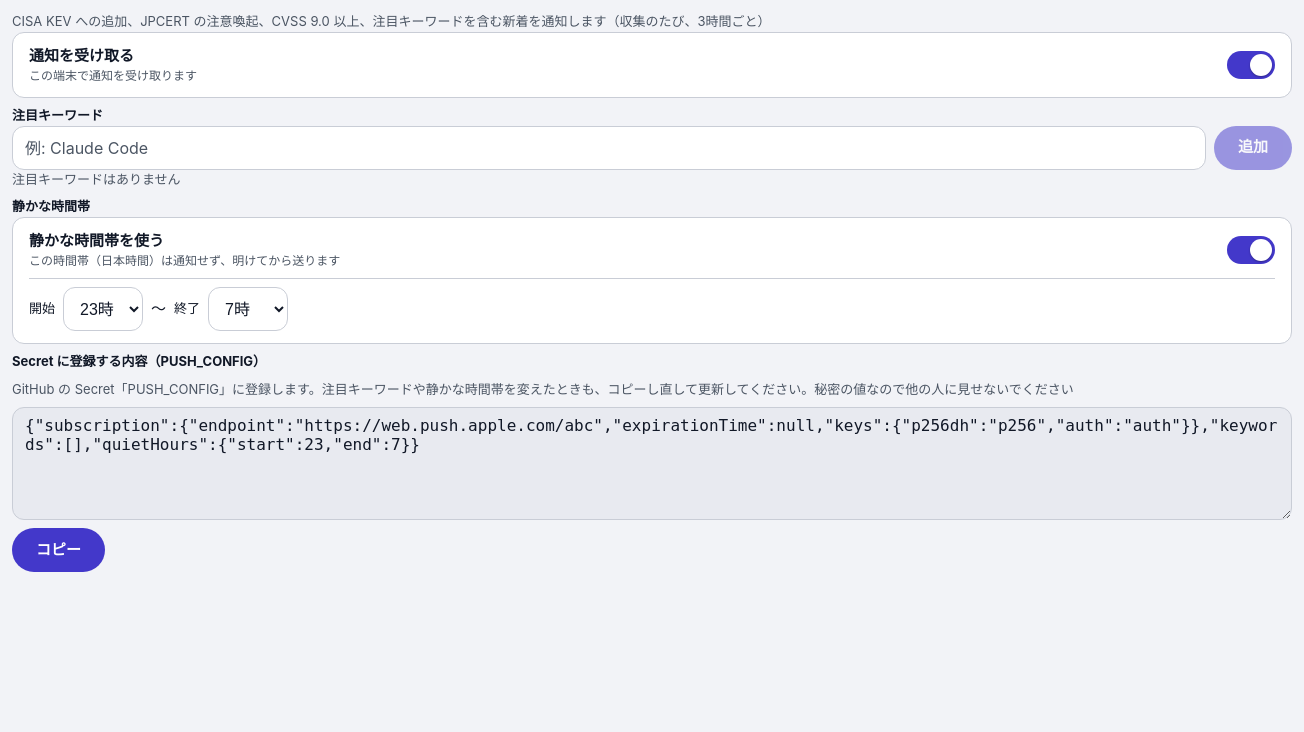
NotificationSettings › OFF にすると購読をやめ、登録する内容を隠す
Click the switch labelled "通知を受け取る" at point(1251, 65), box [1227,51,1275,79]
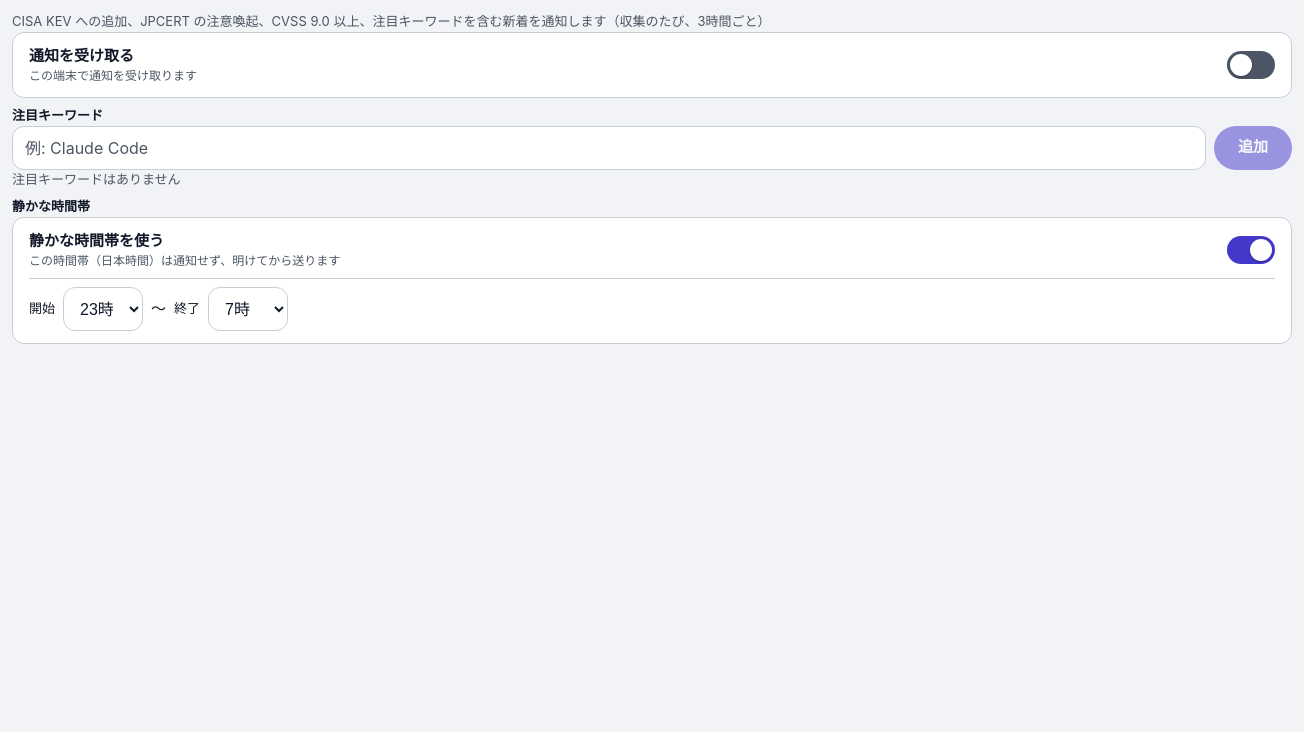
Expected: the switch labelled "通知を受け取る" is not checked, [1227,51,1275,79]
Expected: the label "PUSH_CONFIG" is gone
